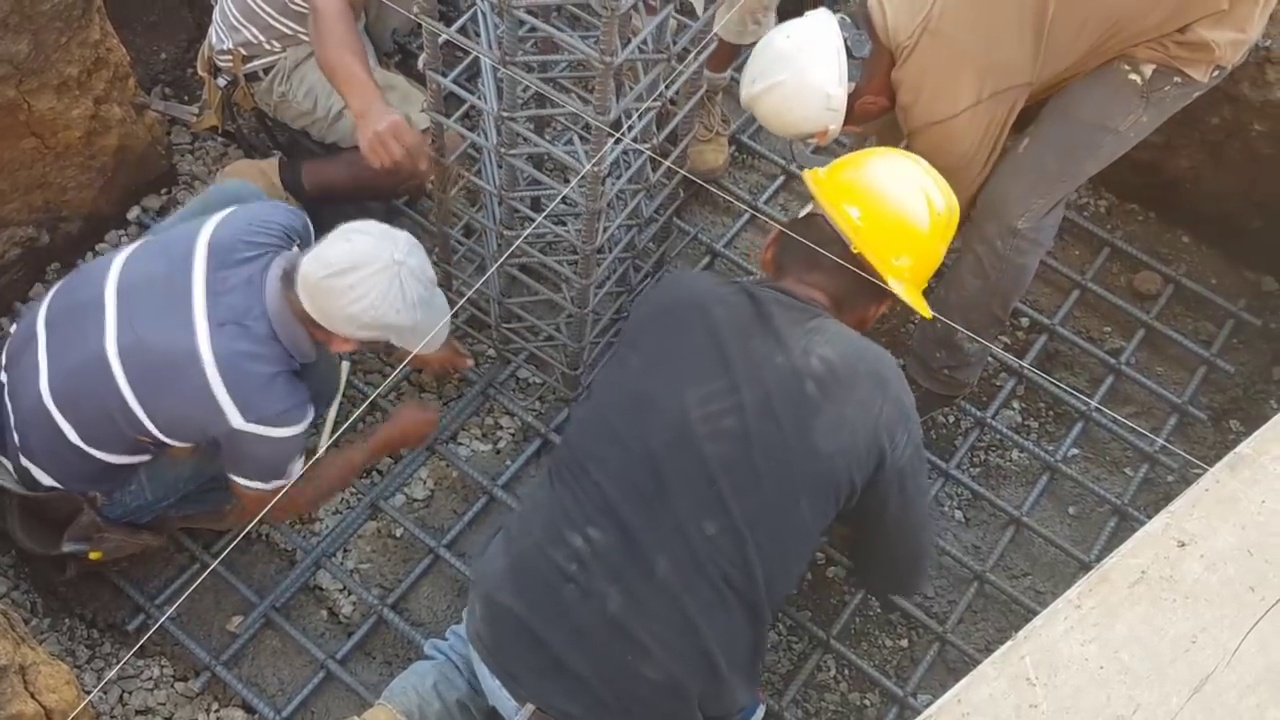helmet: (798, 144, 961, 319), (744, 1, 867, 150)
helmet-off: (288, 228, 449, 390)
helmet-on: (753, 139, 962, 330), (744, 2, 907, 147)
person: (345, 159, 975, 720), (738, 0, 1280, 422), (0, 180, 477, 560), (190, 0, 456, 196)
